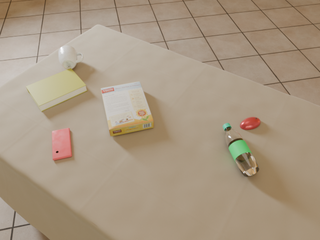book: (26, 68, 87, 111)
bottle: (223, 123, 259, 176)
box: (101, 82, 154, 136)
cup: (59, 46, 84, 69)
mouse: (240, 117, 260, 130)
phone: (52, 128, 72, 160)
